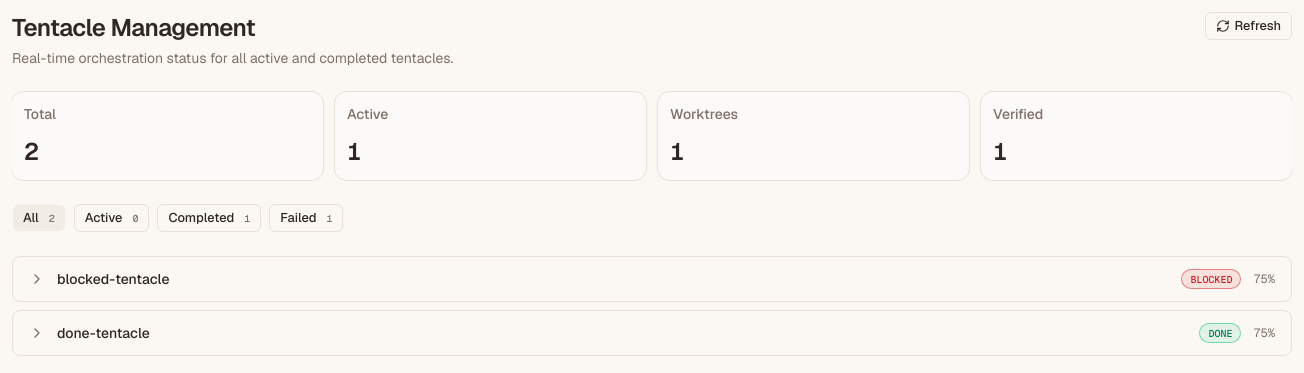
Test: TentaclesPage › filters to show only failed tentacles
This screenshot has width=1304, height=373.
Click the button with test id "filter-failed" at (306, 218), box [269, 204, 344, 232]
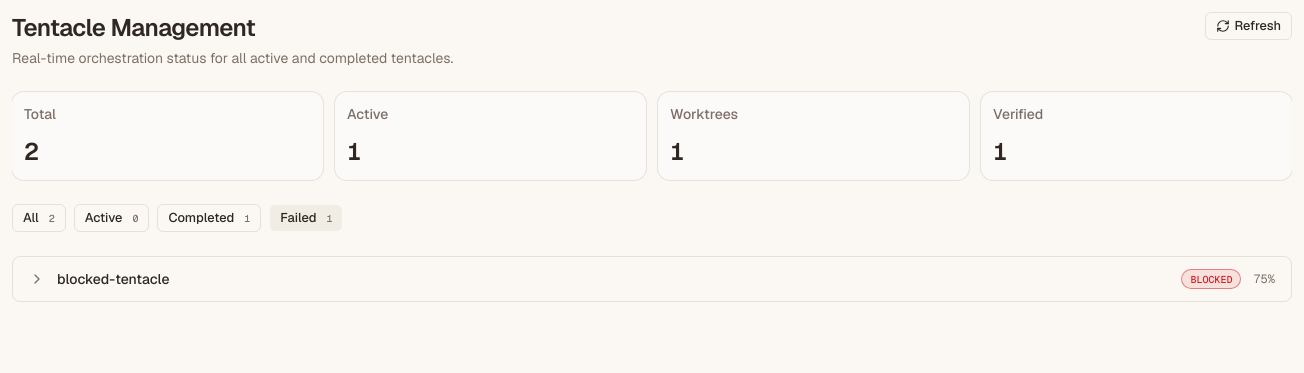
Check: the text "blocked-tentacle" is shown, box [57, 270, 170, 288]
Check: the button "done-tentacle" is gone
